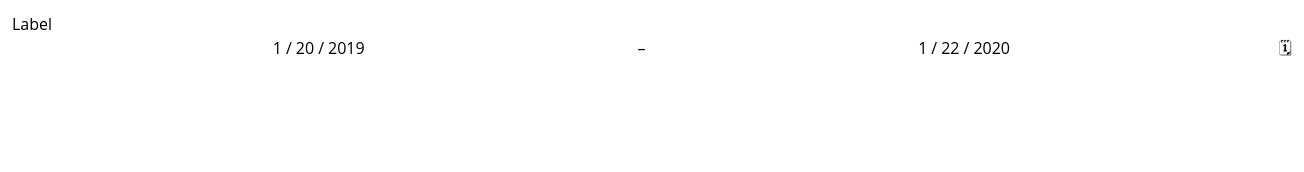
it: Deprecated DatePicker component › displays a warning when start date is before end date when dateRange is true
This screenshot has width=1304, height=172.
Type "[ArrowUp]" into the number field "2019" at (346, 48), box [326,36,367,60]
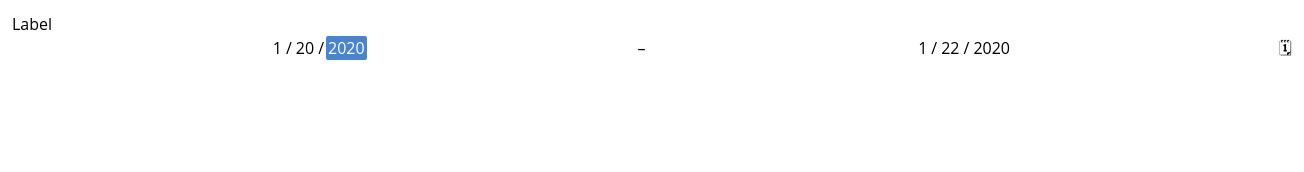
expect the text "🚫" is not shown: met
Type "[ArrowUp]" into the 1st number field "2020" at (346, 48), box [326,36,367,60]
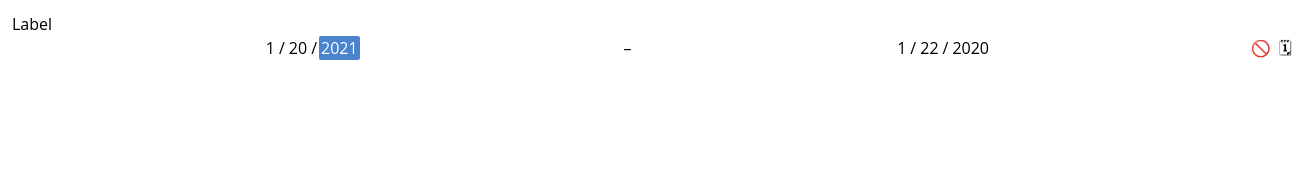
expect the text "🚫" is shown: met, box [1251,36,1271,60]
